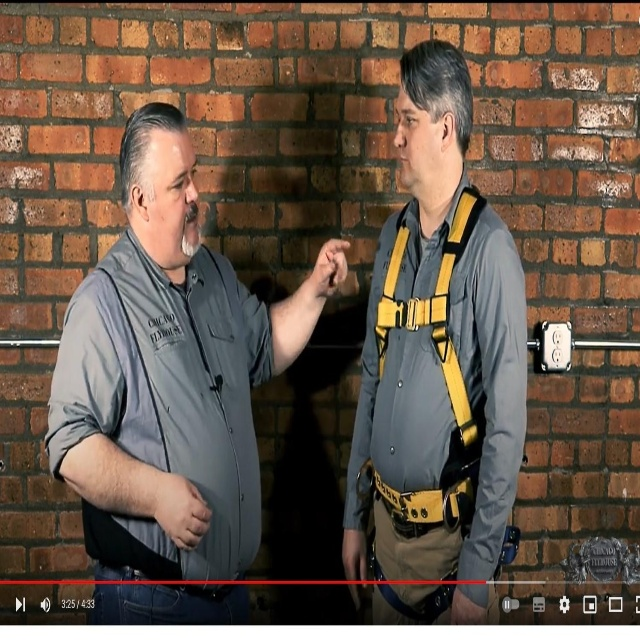Arnes_seguridad: (369, 189, 490, 623)
